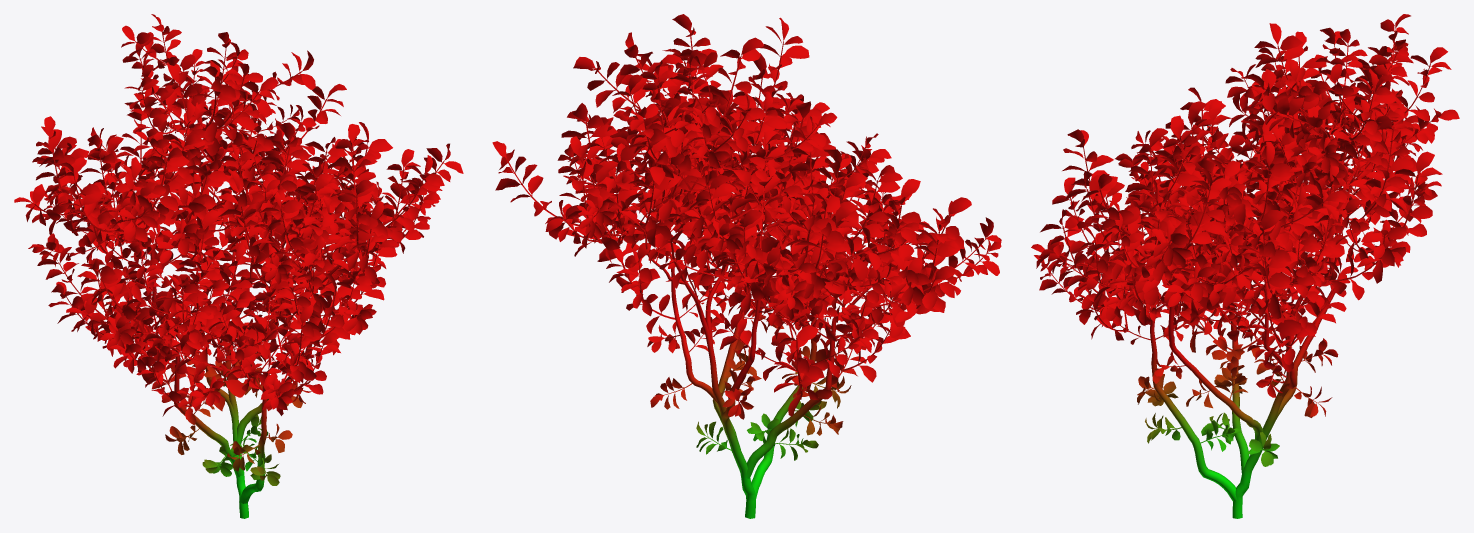
File: European Spindle_LOD1_Var16.fbx
3 views of the same model, side by side, from view 1: azimuth 30°, elevation 25°; view 2: azimuth 150°, elevation 25°; view 3: azimuth 270°, elevation 25° (orthographic). The views are drawn at different scales.
Visible parts, largest first — view 1: _0g3z_Var16_LOD1; view 2: _0g3z_Var16_LOD1; view 3: _0g3z_Var16_LOD1.
Part boxes in pixels (x1,y1,x2,y2): _0g3z_Var16_LOD1: [14, 14, 463, 518]; _0g3z_Var16_LOD1: [492, 14, 1001, 518]; _0g3z_Var16_LOD1: [1031, 14, 1459, 518].
Bounding box in the file's own units: 226 × 258 × 208.
